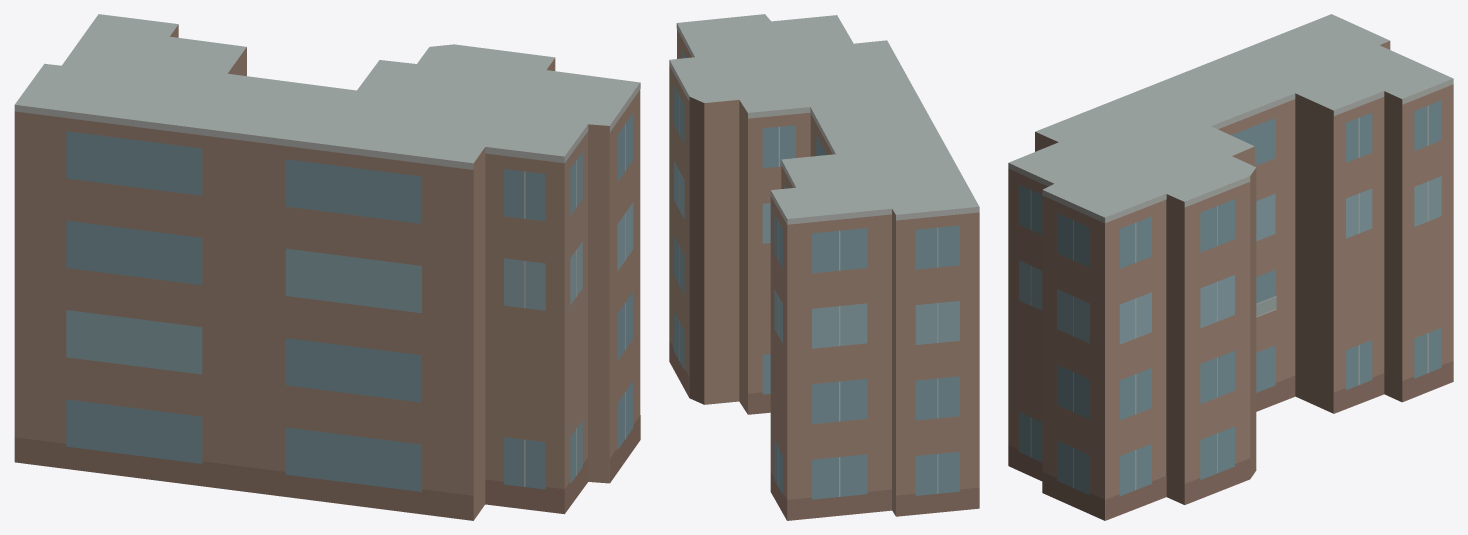
The model's file is survey-upis-33028540.glb.
3 views of the same model, side by side, from view 1: azimuth 30°, elevation 25°; view 2: azimuth 150°, elevation 25°; view 3: azimuth 270°, elevation 25° (orthographic). The views are drawn at different scales.
Parts seen in each view (by area): view 1: survey-upis-33028540.tmp; view 2: survey-upis-33028540.tmp; view 3: survey-upis-33028540.tmp.
Part boxes in pixels (<box>): survey-upis-33028540.tmp: <box>14,14,640,520</box>; survey-upis-33028540.tmp: <box>669,14,979,520</box>; survey-upis-33028540.tmp: <box>1008,14,1453,520</box>.
Bounding box in the file's own units: 18.88 × 13.1 × 17.45.
